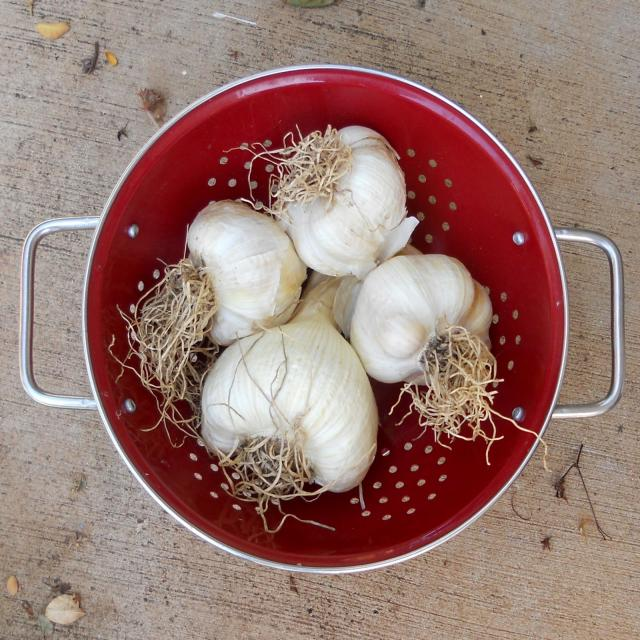garlic: (205, 319, 375, 458), (357, 251, 490, 374), (298, 130, 408, 274), (187, 198, 297, 329)
